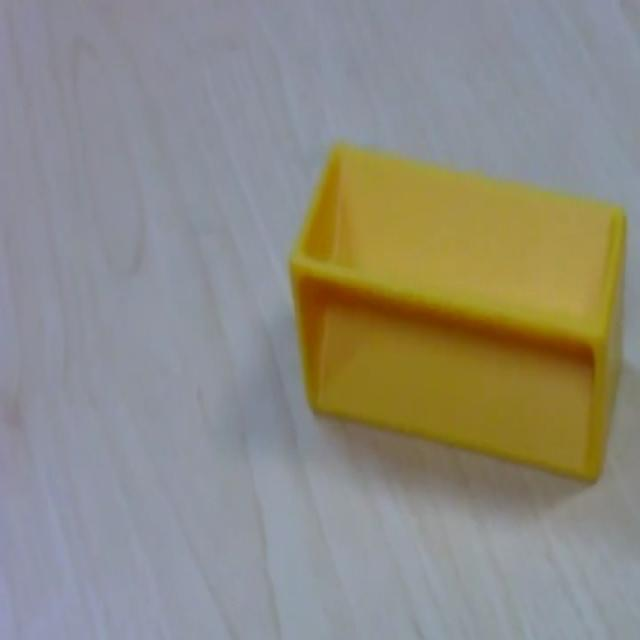yellow_block: (288, 137, 628, 484)
